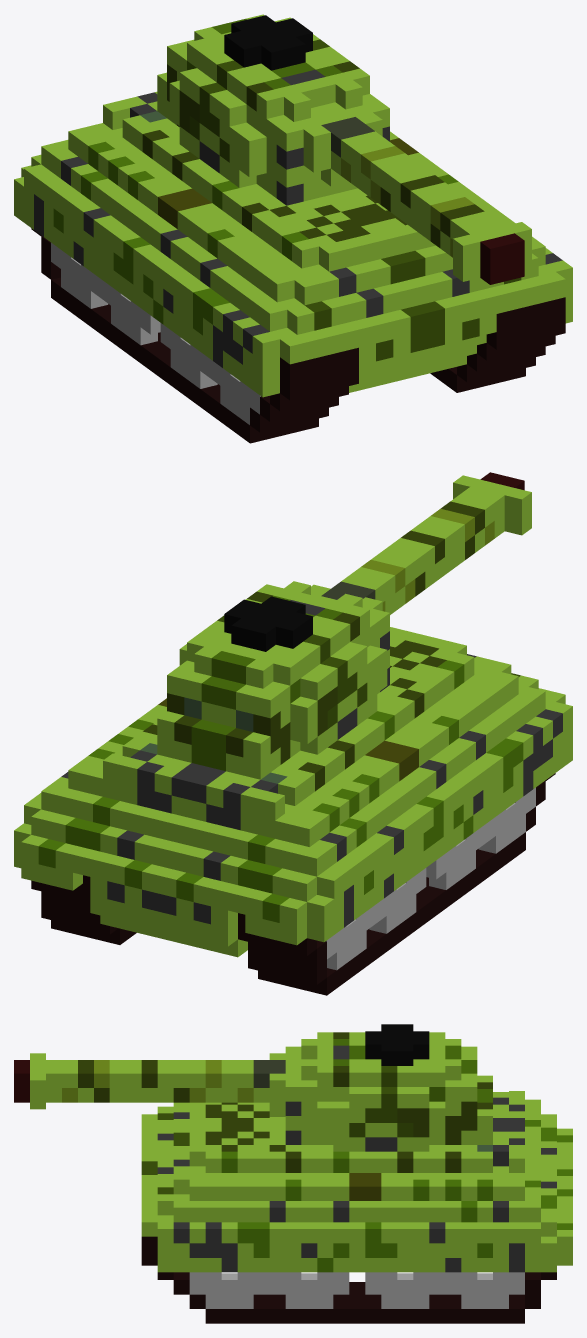
The model's file is tank.obj.
3 renders of one model, top to bottom at view 1: azimuth 30°, elevation 25°; view 2: azimuth 150°, elevation 25°; view 3: azimuth 270°, elevation 25°, orthographic. The views are drawn at different scales.
Bounding box in the file's own units: 18 × 16 × 35.
1 material, 1 textured.
